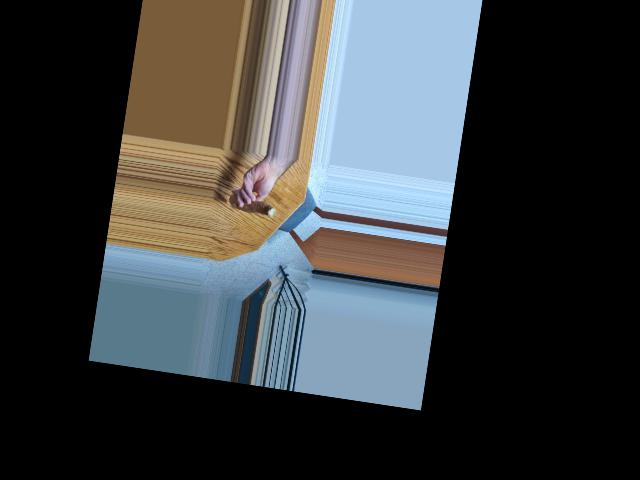sweet_potato: (228, 190, 278, 219)
